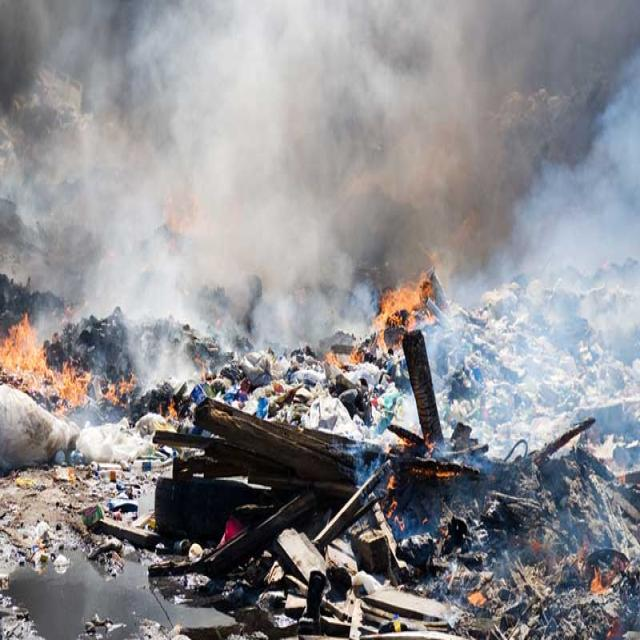fire: (0, 312, 91, 415), (374, 276, 435, 349)
